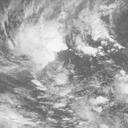cyclone: (26, 32, 84, 85)
